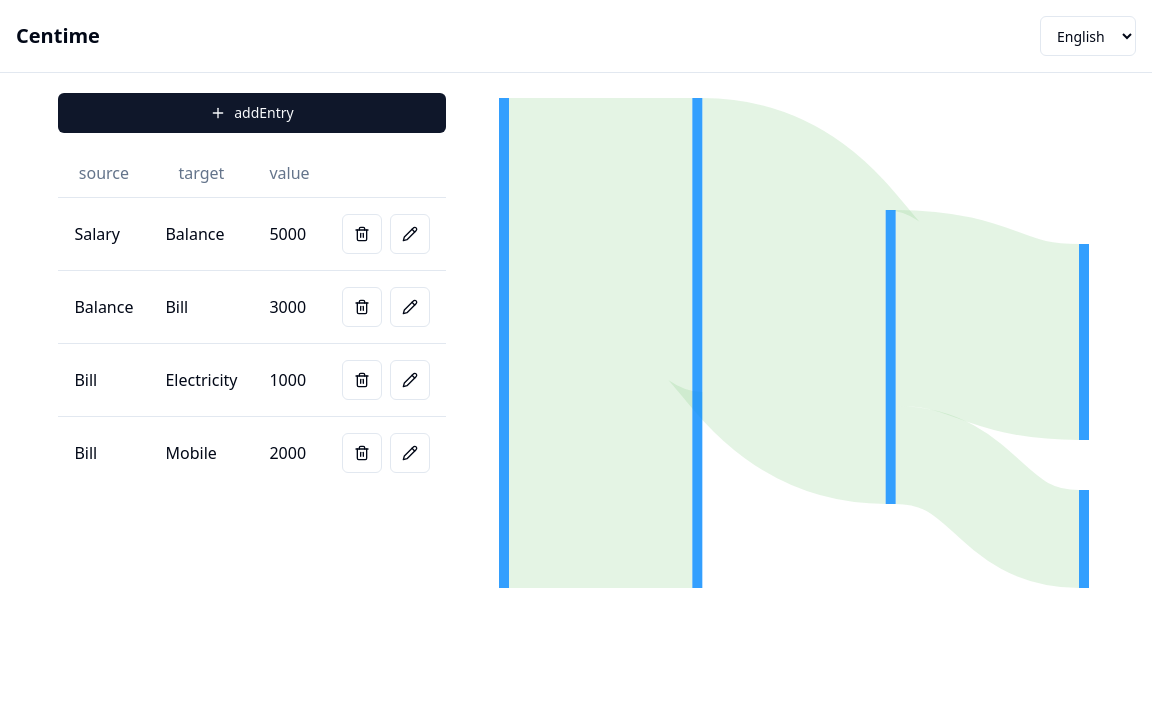
Scenario: App › should update table on new data entry
The width and height of the screenshot is (1152, 720).
Click the button "addEntry". click: coordinates (252, 113)
box: [58,93,446,133]
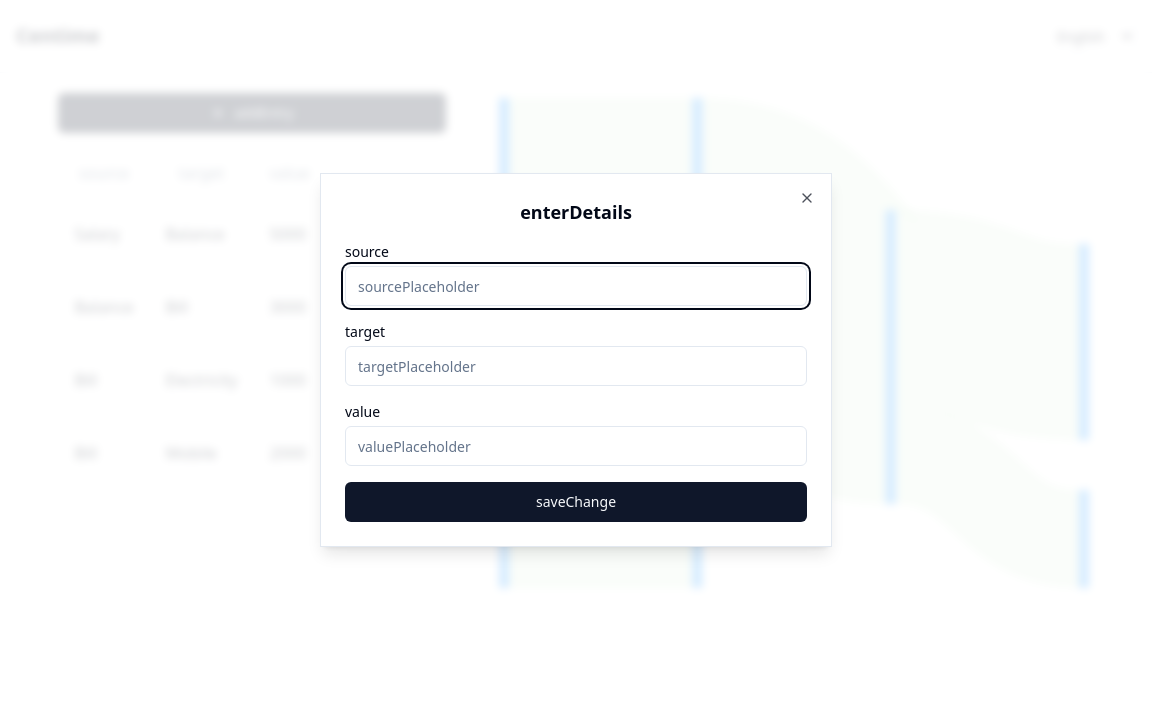
Type "test-source" into the field labelled "source". click: coordinates (576, 286)
box: [345,266,807,306]
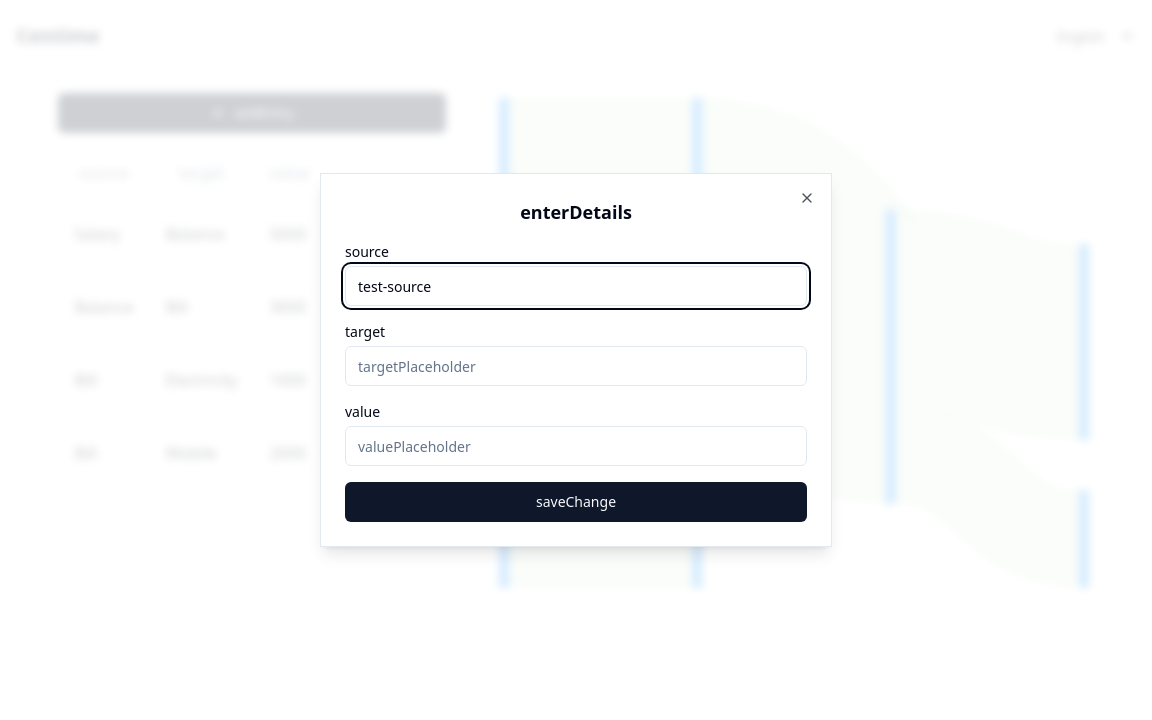
Type "test-target" into the field labelled "target". click: coordinates (576, 366)
box: [345,346,807,386]
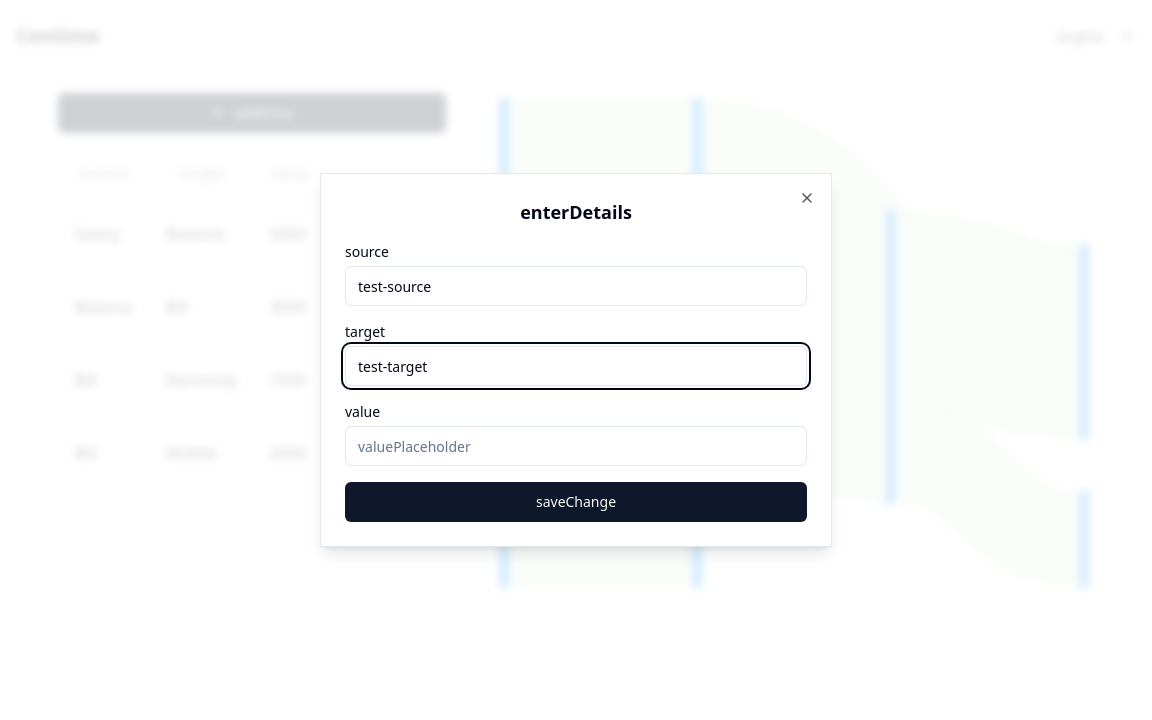
Type "123" into the number field. click: coordinates (576, 446)
box: [345,426,807,466]
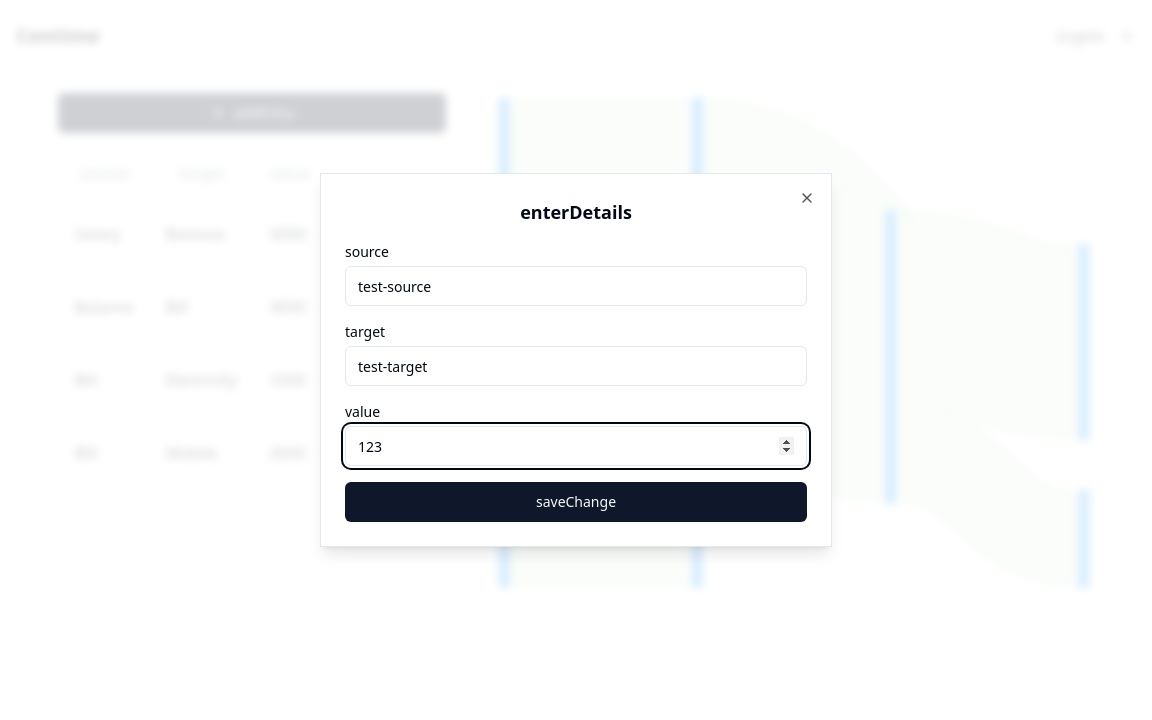
Click the button "saveChange". click: coordinates (576, 502)
box: [345,482,807,522]
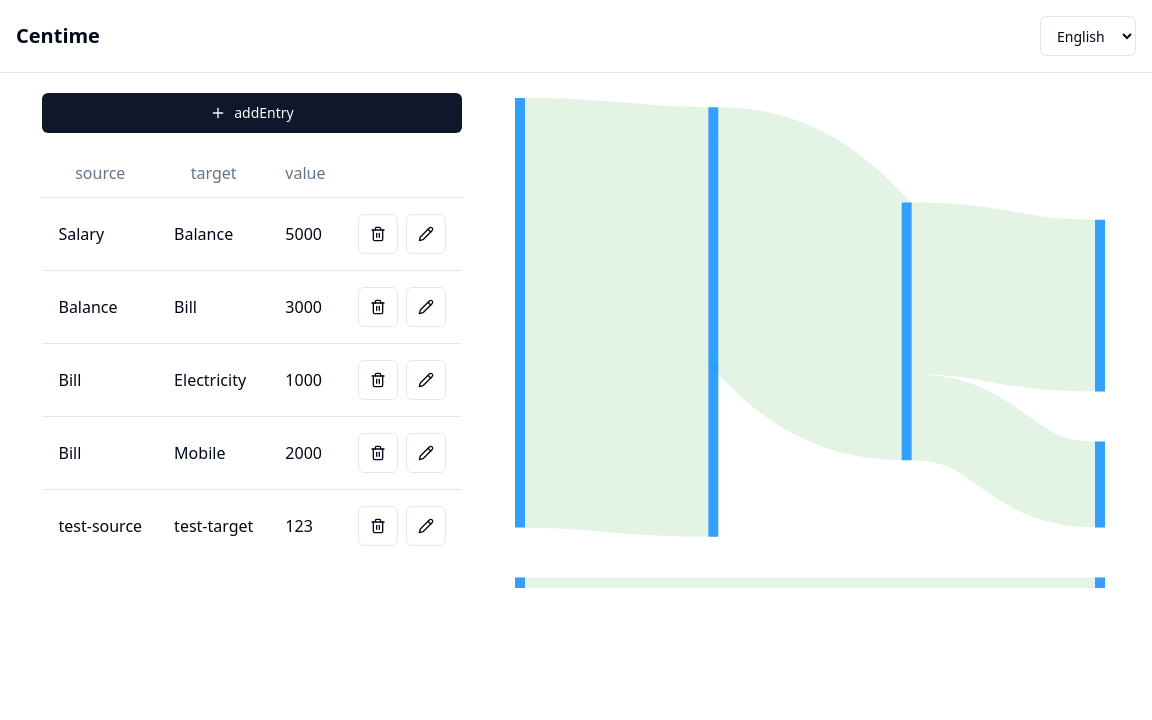
Result: the text "test-source" is shown at [42,489,158,562]
Result: the text "test-target" is shown at [158,489,269,562]
Result: the text "123" is shown at [269,489,342,562]
